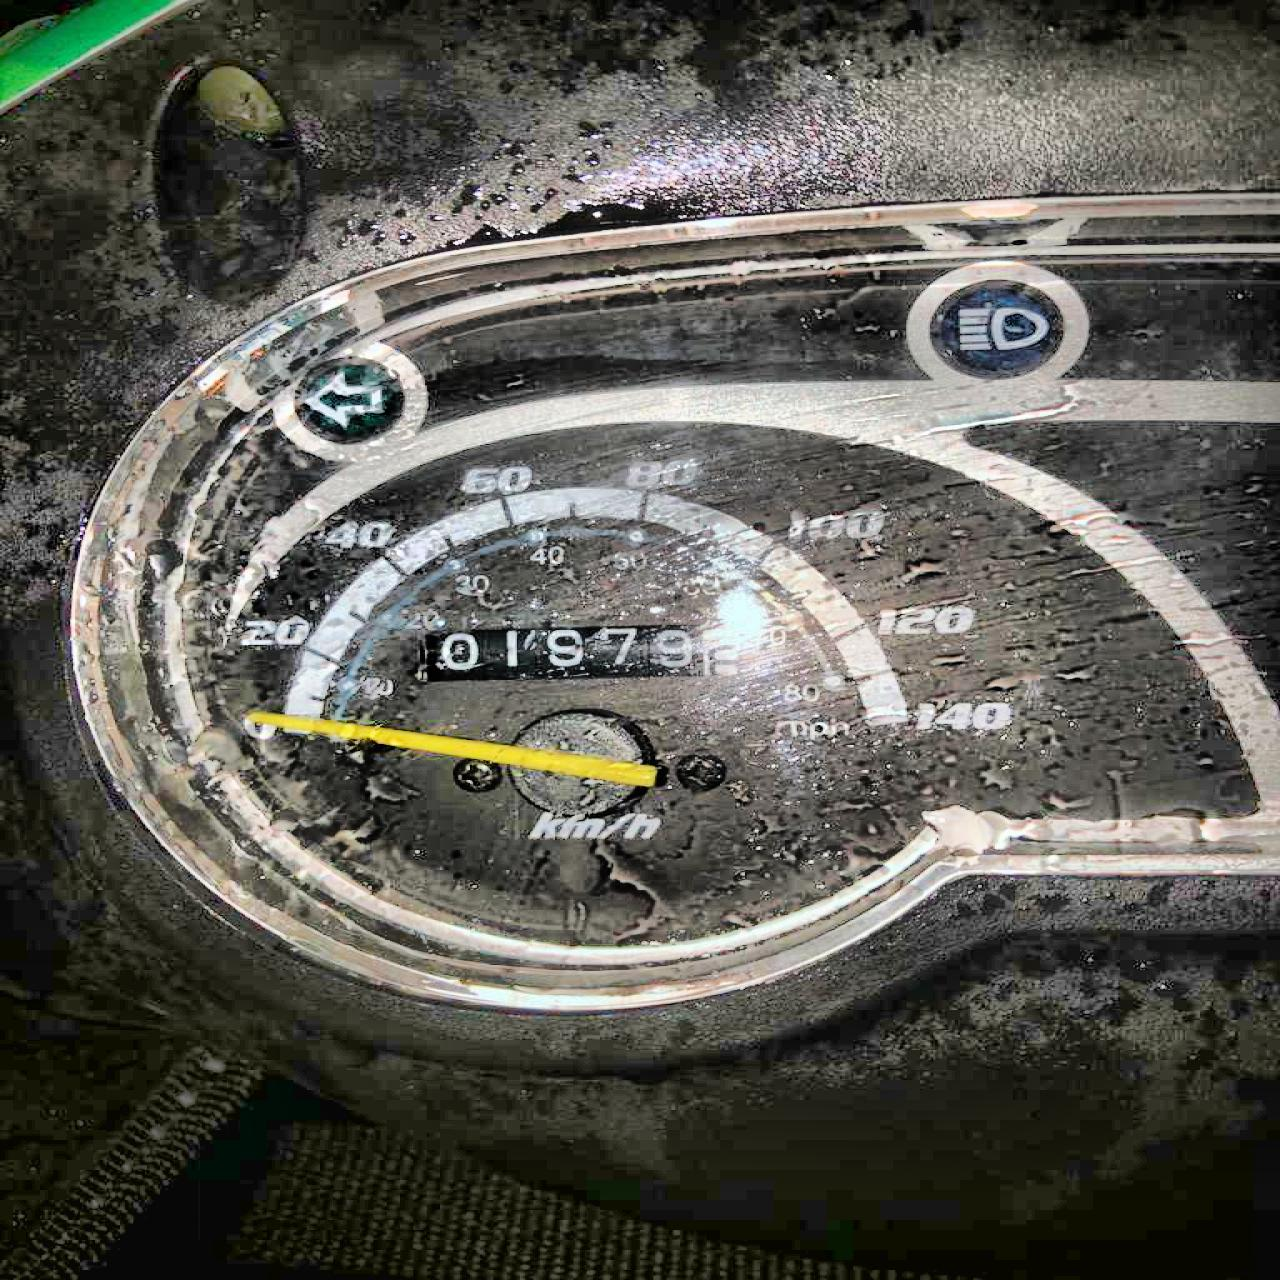0: (441, 629, 482, 670)
1: (499, 626, 523, 674)
7: (600, 625, 639, 666)
8: (703, 641, 743, 680)
9: (652, 625, 693, 670), (545, 627, 588, 668)
odometer: (414, 624, 747, 680)
